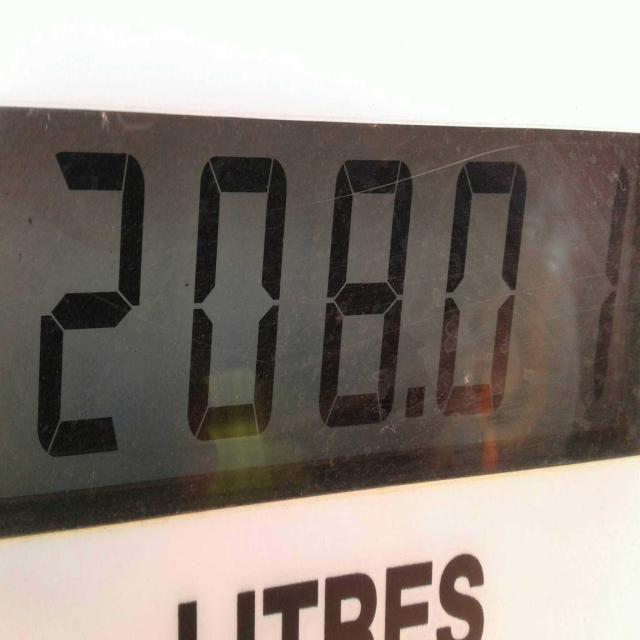.: (394, 377, 436, 452)
0: (438, 146, 545, 424), (196, 159, 287, 440)
2: (43, 156, 152, 441)
8: (328, 165, 407, 418)
